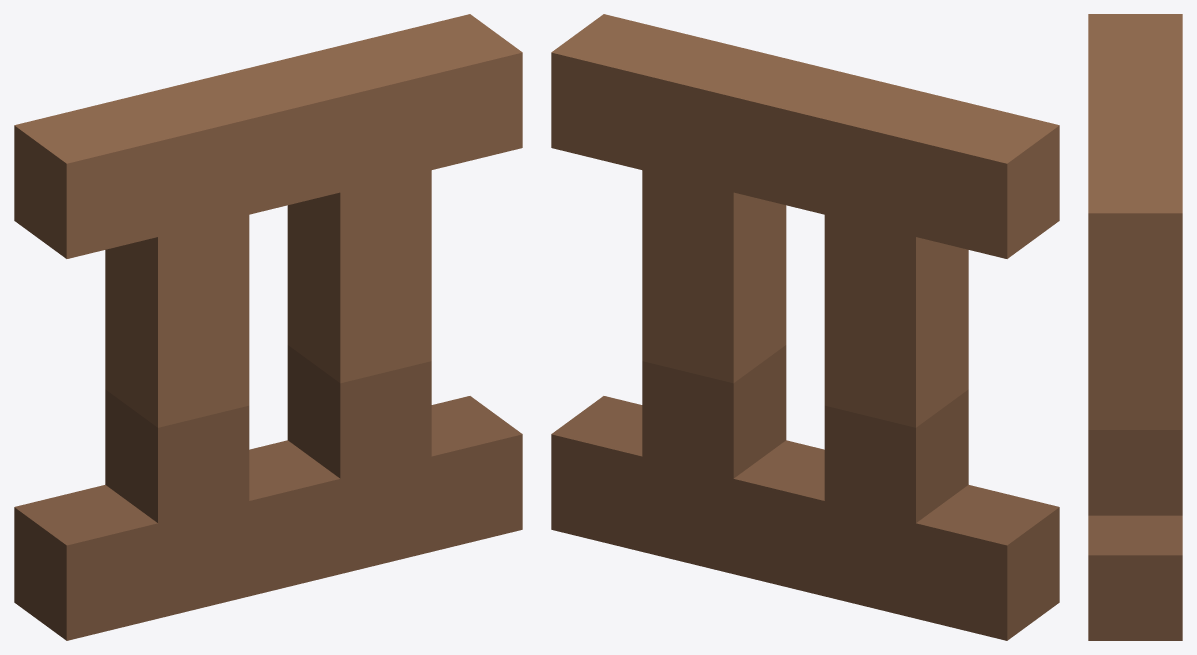
The model's file is ConstructionMaterials-92.obj.
The picture shows the model from 3 angles, left to right: view 1: azimuth 30°, elevation 25°; view 2: azimuth 150°, elevation 25°; view 3: azimuth 270°, elevation 25°; orthographic projection. The views are drawn at different scales.
Size of the model in its own units: 0.5 by 0.5 by 0.1.
1 material, 1 textured.
